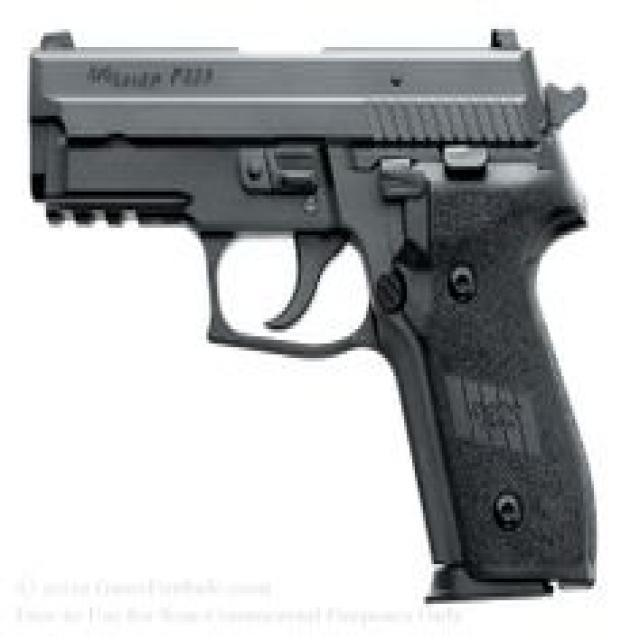semi automatic: (23, 11, 602, 616)
